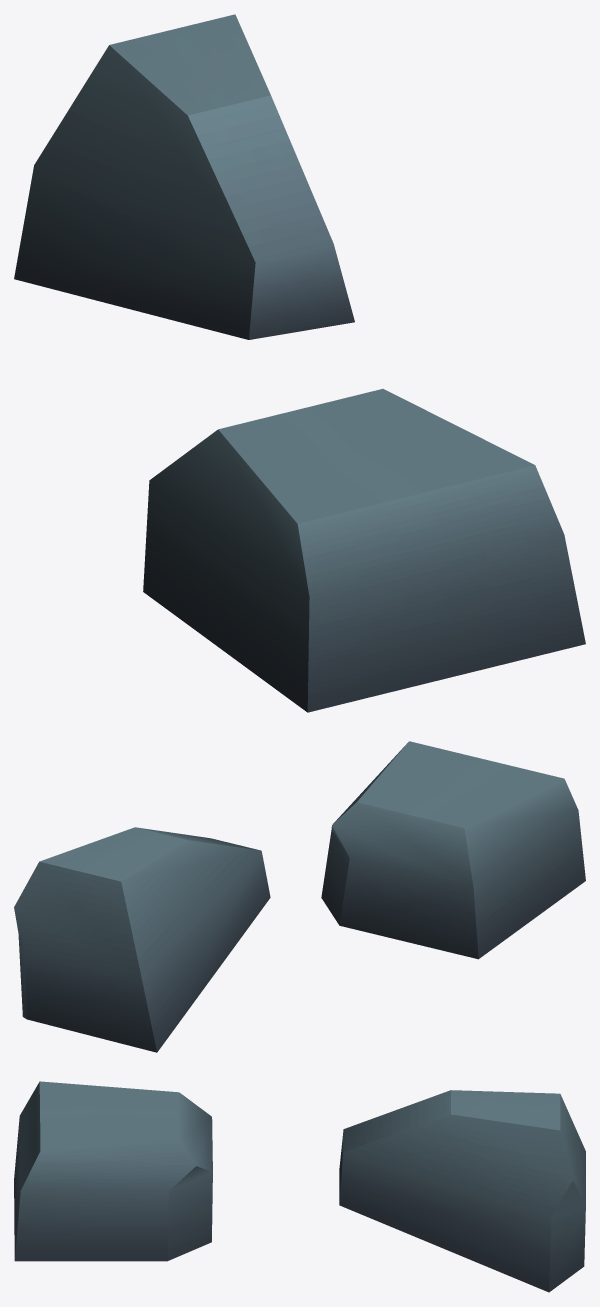
Rendered from Modular_Dungeon_Rubble.fbx.
The picture shows the model from 3 angles, top to bottom: view 1: azimuth 30°, elevation 25°; view 2: azimuth 150°, elevation 25°; view 3: azimuth 270°, elevation 25°; orthographic projection. The views are drawn at different scales.
Visible parts, largest first — view 1: Rubble; view 2: Rubble; view 3: Rubble.
Boxes of the visible parts, left/top/right/bottom form: Rubble: left=14, top=14, right=585, bottom=712; Rubble: left=14, top=741, right=585, bottom=1052; Rubble: left=14, top=1081, right=585, bottom=1292.
Size of the model in its own units: 1.29 by 0.79 by 2.52.
Materials: 1 (1 with a texture image).
